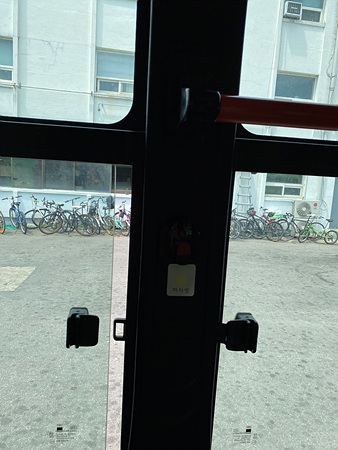bell: (170, 222, 194, 264)
